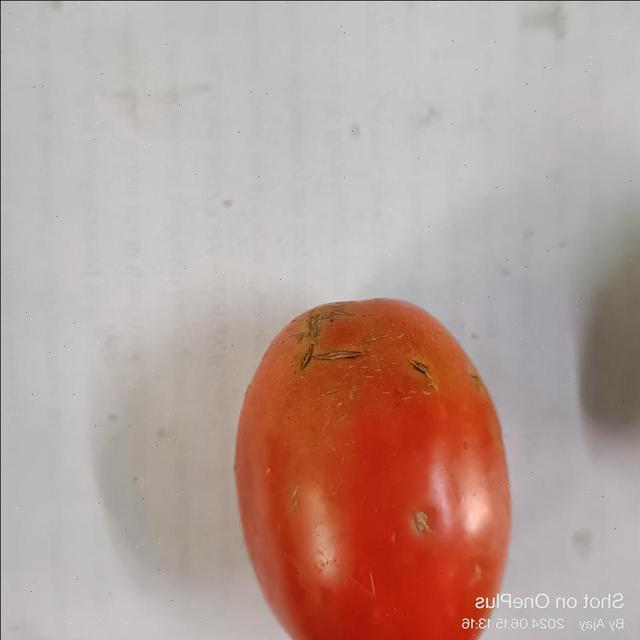Bacterial Spot Fruit: (14, 14, 281, 347)
